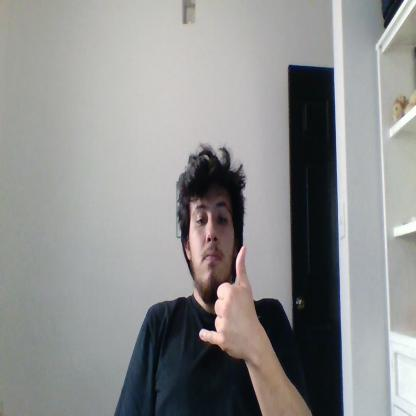Y: (198, 245, 260, 358)
